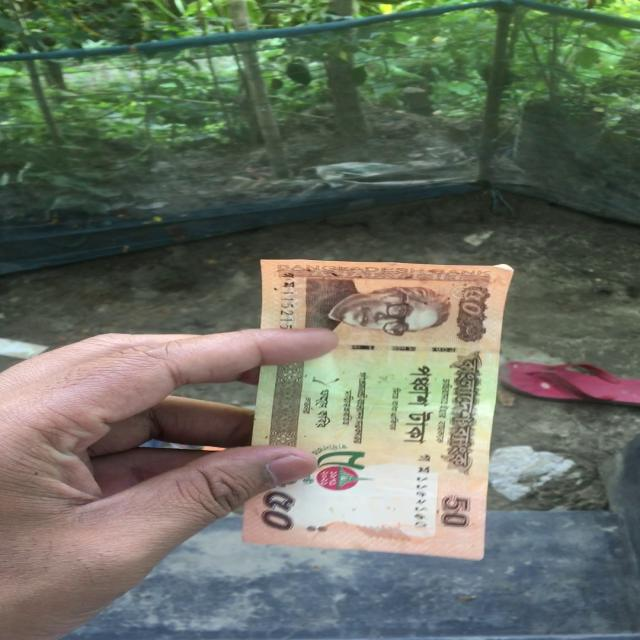Taka: (274, 264, 493, 558)
